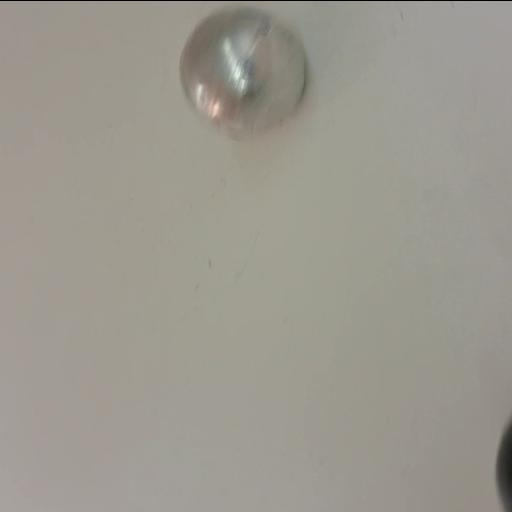alive: (175, 2, 309, 146)
dead: (494, 408, 512, 512)
